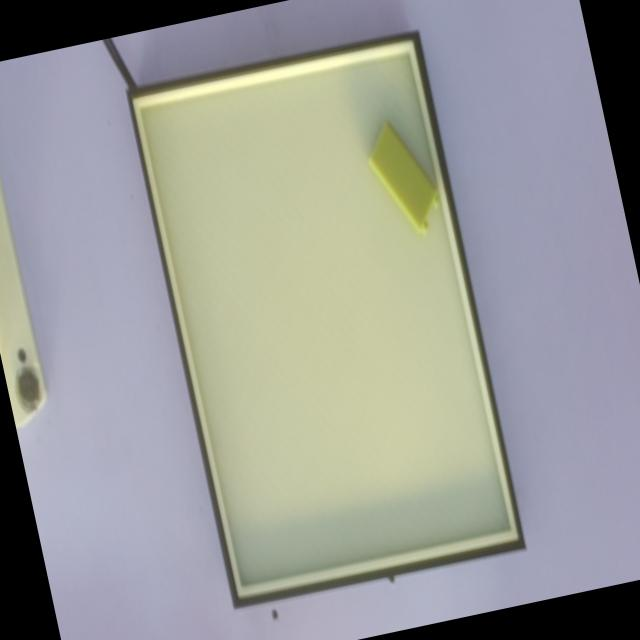bateria: (368, 120, 441, 234)
mesa: (125, 28, 527, 609)
